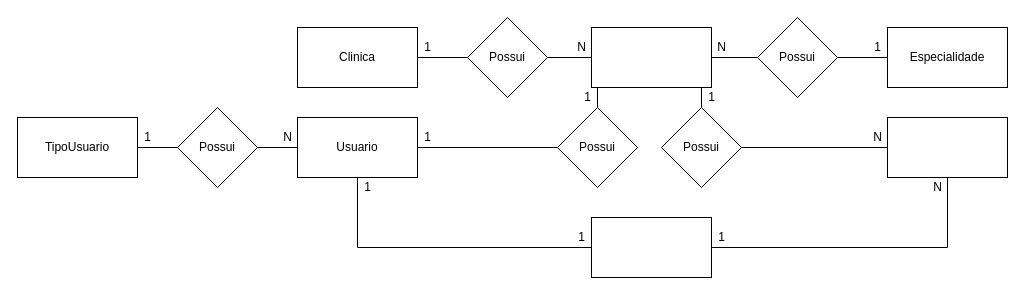
The diagram is 1025 pixels wide and 295 high, and some of its shapes have lost their labels. The shapes that lost their labels are listed below. From the top down, each one's centre as x and y in pixels, then its label:
At [651,57]: "Medico".
At [947,147]: "Consulta".
At [651,247]: "Prontuario".
